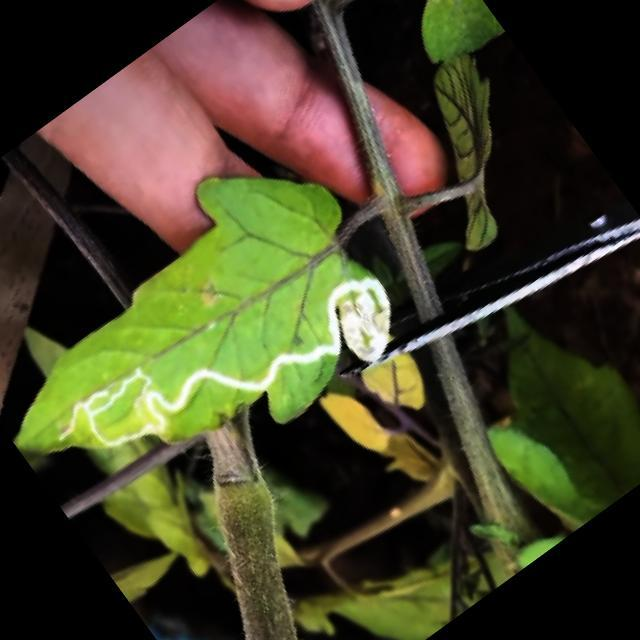Tomato target spot leaf: (0, 121, 428, 564)
